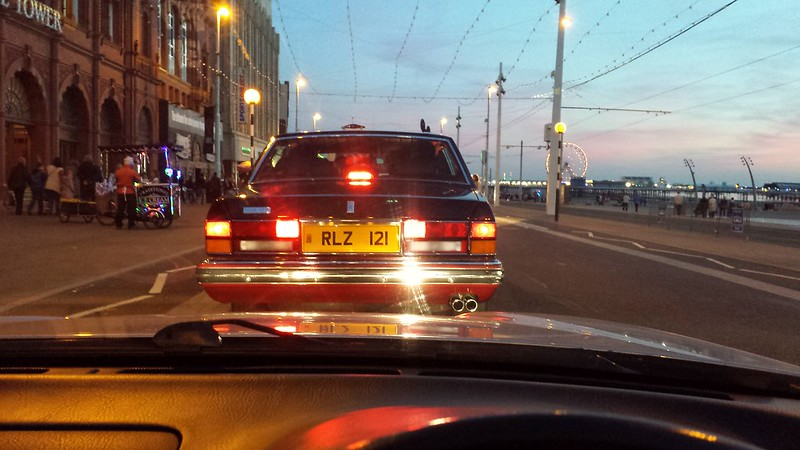number_plate: (286, 219, 419, 259)
